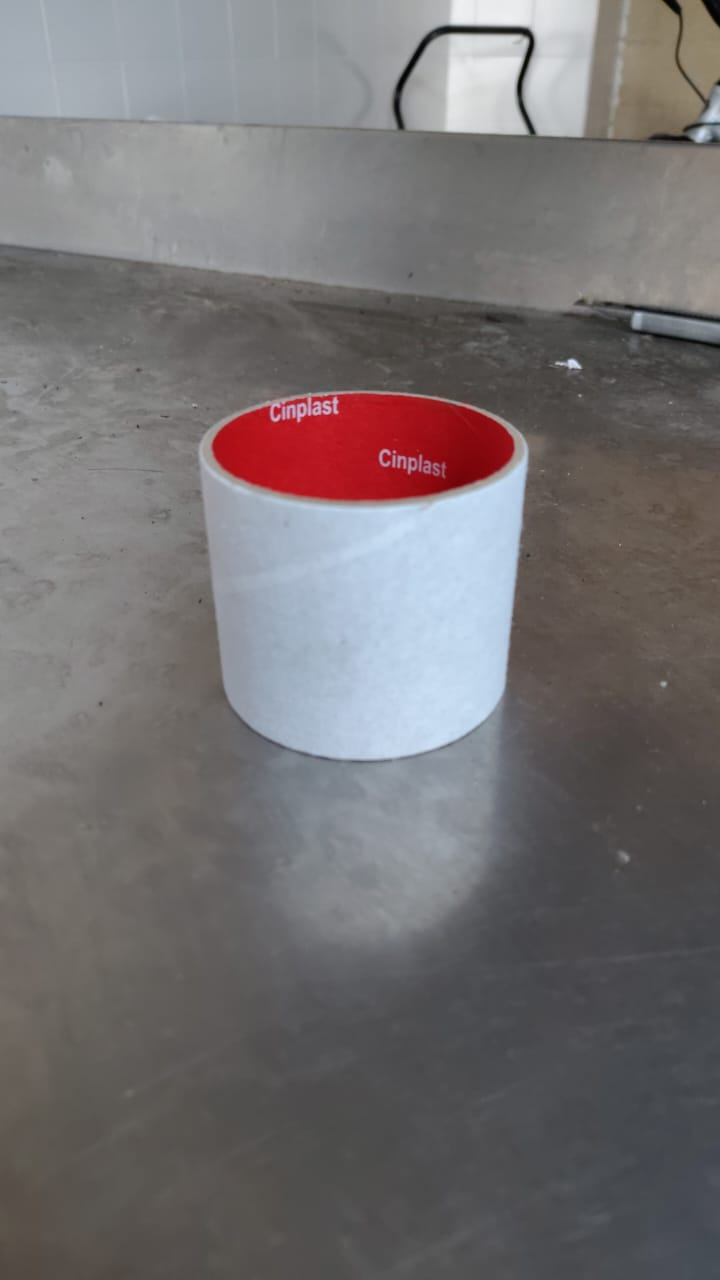Carton: (195, 391, 532, 762)
